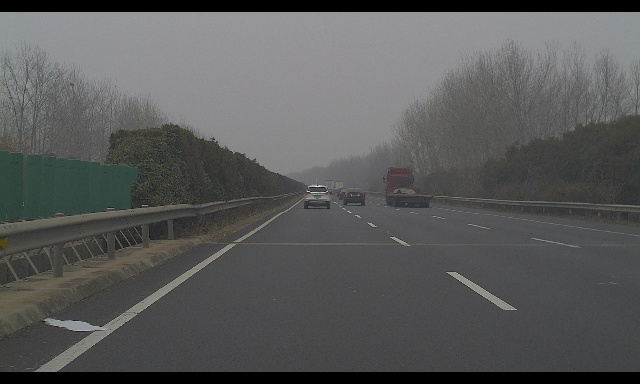car: (304, 184, 332, 209), (343, 188, 366, 205), (339, 189, 350, 200), (337, 188, 347, 197), (326, 188, 334, 195)
truck: (383, 166, 433, 208), (334, 181, 343, 192), (326, 180, 335, 190)
